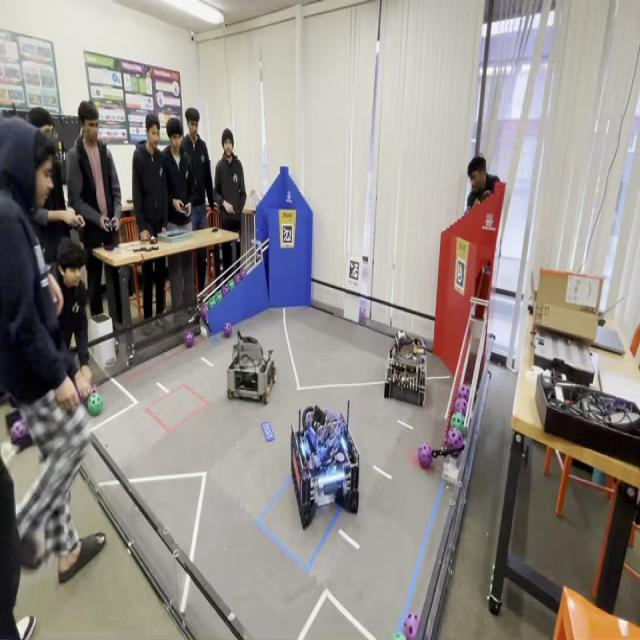artifact_green: (446, 427, 464, 452), (451, 412, 465, 437), (88, 393, 102, 417), (458, 384, 469, 401), (76, 389, 85, 404), (200, 303, 208, 319), (240, 267, 248, 280), (392, 632, 406, 639), (214, 291, 222, 303), (227, 279, 235, 290), (234, 273, 241, 285), (222, 285, 229, 297), (90, 384, 98, 394), (208, 298, 215, 309), (413, 345, 417, 355)
artifact_purple: (11, 419, 28, 444), (404, 612, 419, 639), (418, 443, 432, 469), (447, 428, 463, 450), (454, 398, 467, 414), (458, 384, 469, 401), (76, 387, 85, 404), (185, 332, 194, 348), (200, 303, 208, 318), (223, 323, 231, 337), (359, 309, 365, 323), (483, 190, 492, 199), (90, 384, 98, 394), (234, 273, 241, 284), (240, 267, 247, 278), (222, 285, 229, 296)
